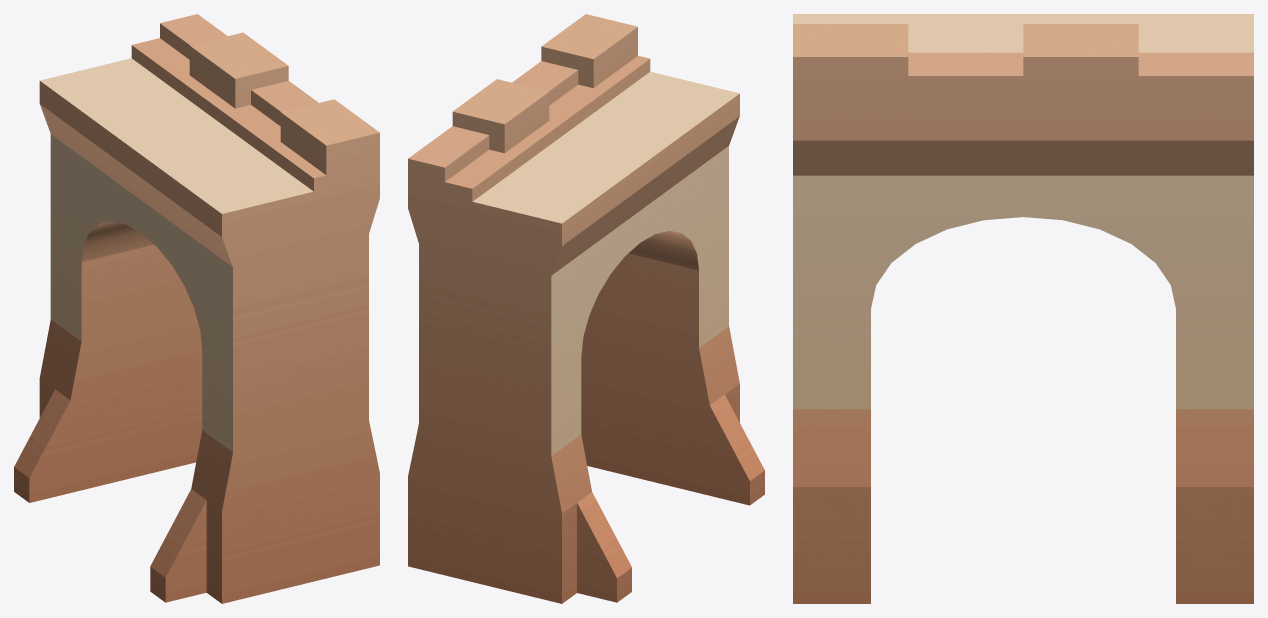
File: wall-narrow-gate.glb
The picture shows the model from 3 angles, left to right: view 1: azimuth 30°, elevation 25°; view 2: azimuth 150°, elevation 25°; view 3: azimuth 270°, elevation 25°; orthographic projection. The views are drawn at different scales.
Visible parts, largest first — view 1: wall-narrow-gate; view 2: wall-narrow-gate; view 3: wall-narrow-gate.
Part boxes in pixels (bbox=[...]): wall-narrow-gate: bbox=[14, 14, 379, 603]; wall-narrow-gate: bbox=[408, 14, 764, 603]; wall-narrow-gate: bbox=[793, 14, 1253, 603].
Bounding box in the file's own units: 0.63 × 1.31 × 1.
Materials: 1 (1 with a texture image).
